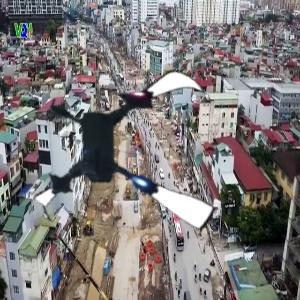drone: (27, 45, 237, 255)
